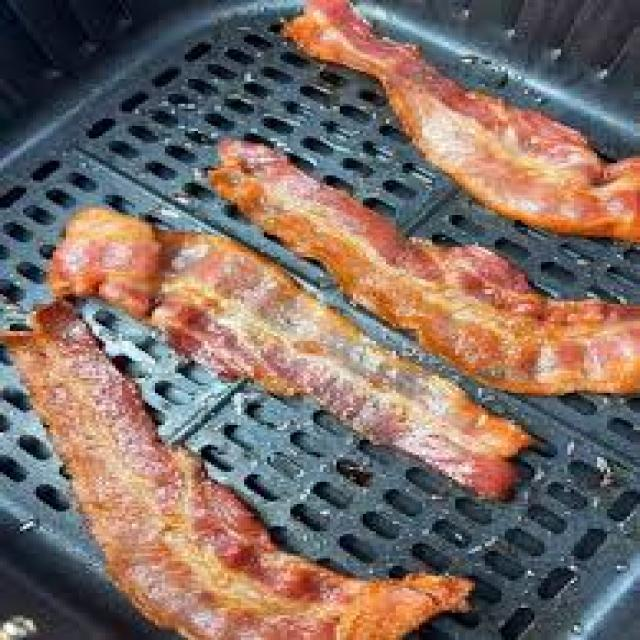Bacon: (3, 304, 472, 640), (214, 139, 639, 394), (149, 231, 531, 498), (284, 0, 638, 242)
